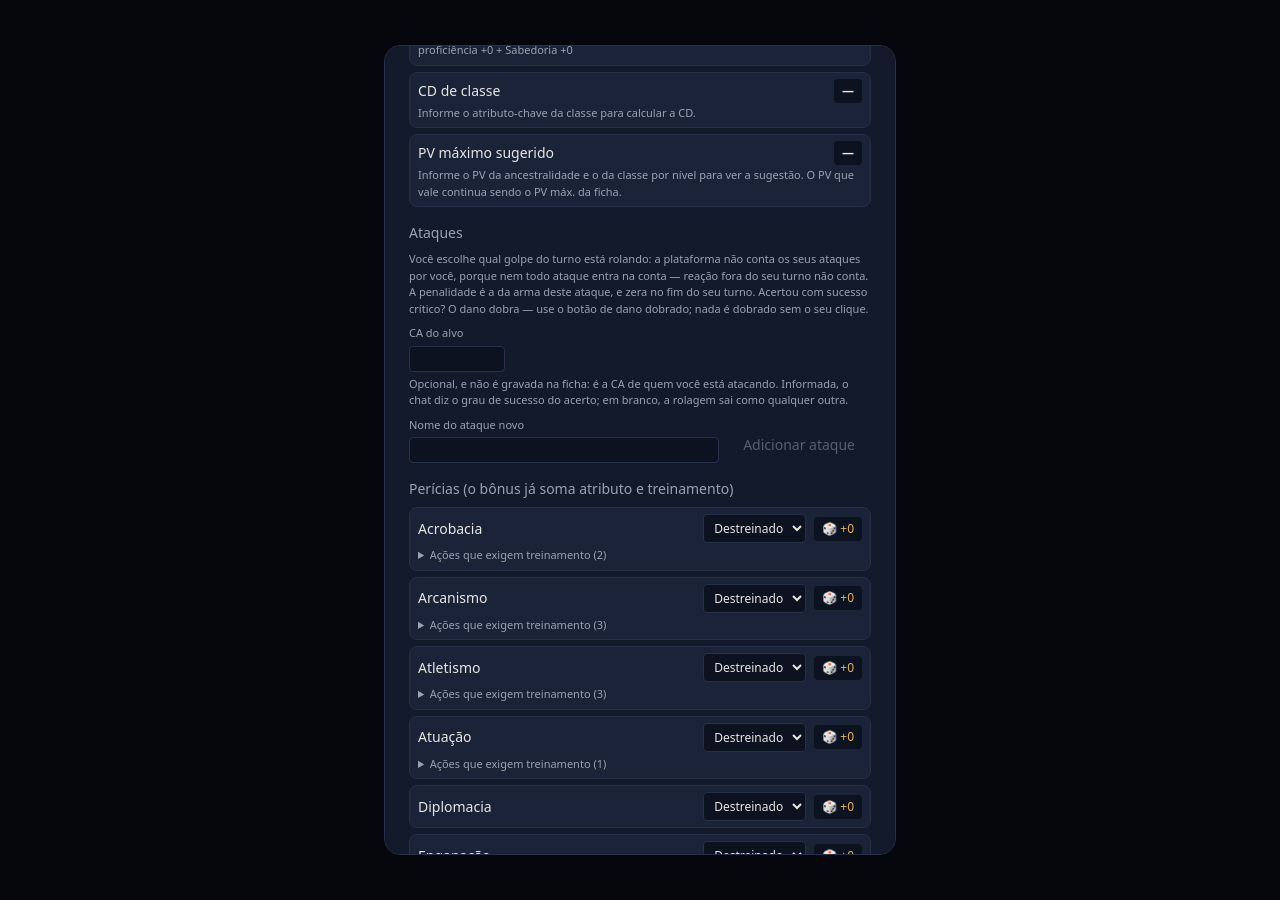
Scenario: criar, editar e remover ataques › o jogador cria um ataque e ele aparece com os três botões desabilitados até ter bônus
(page scrolled)
Type "Machado" into the field labelled "Nome do ataque novo" at (564, 450), box [409,437,719,463]
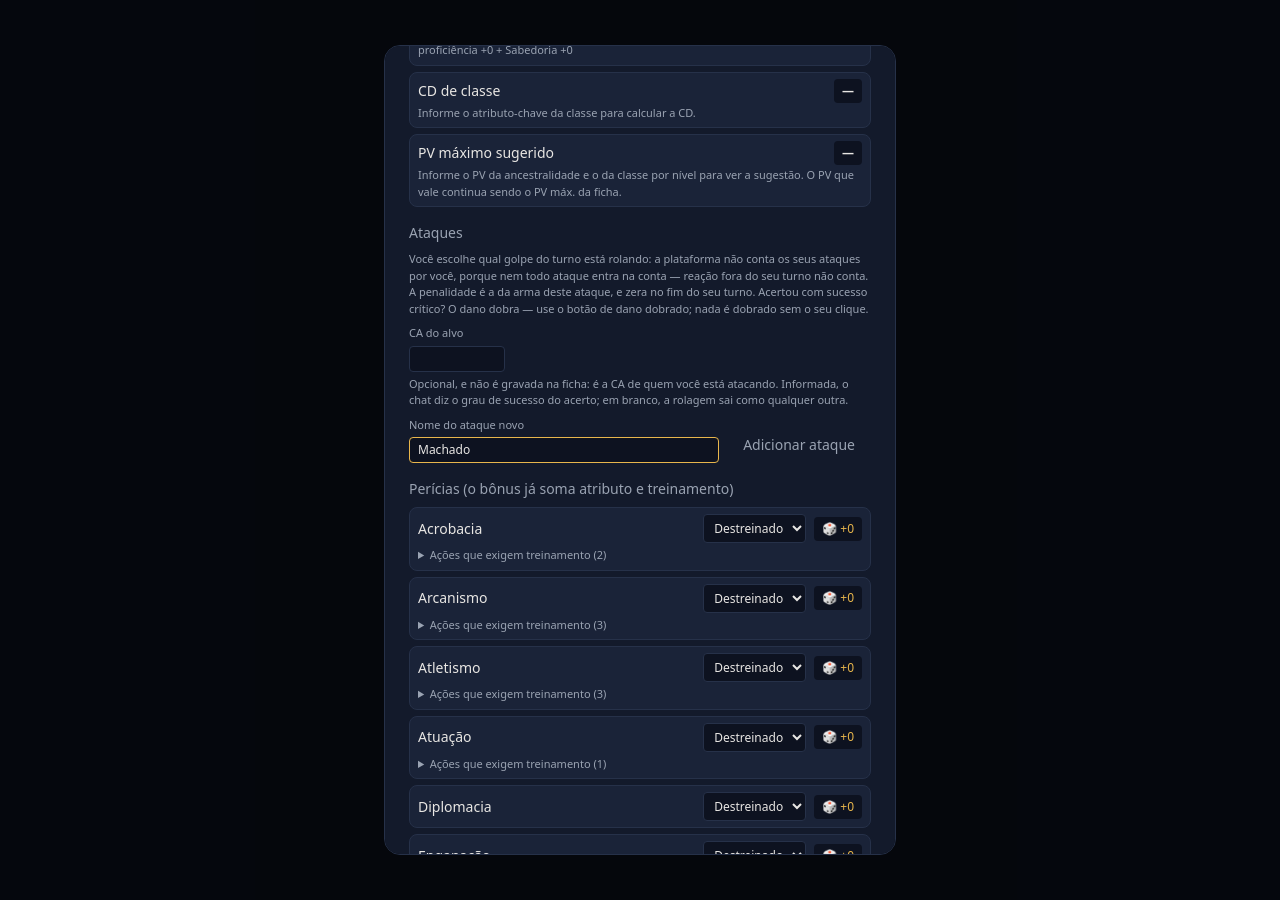
Click the button "Adicionar ataque" at (799, 445), box [727,427,871,463]
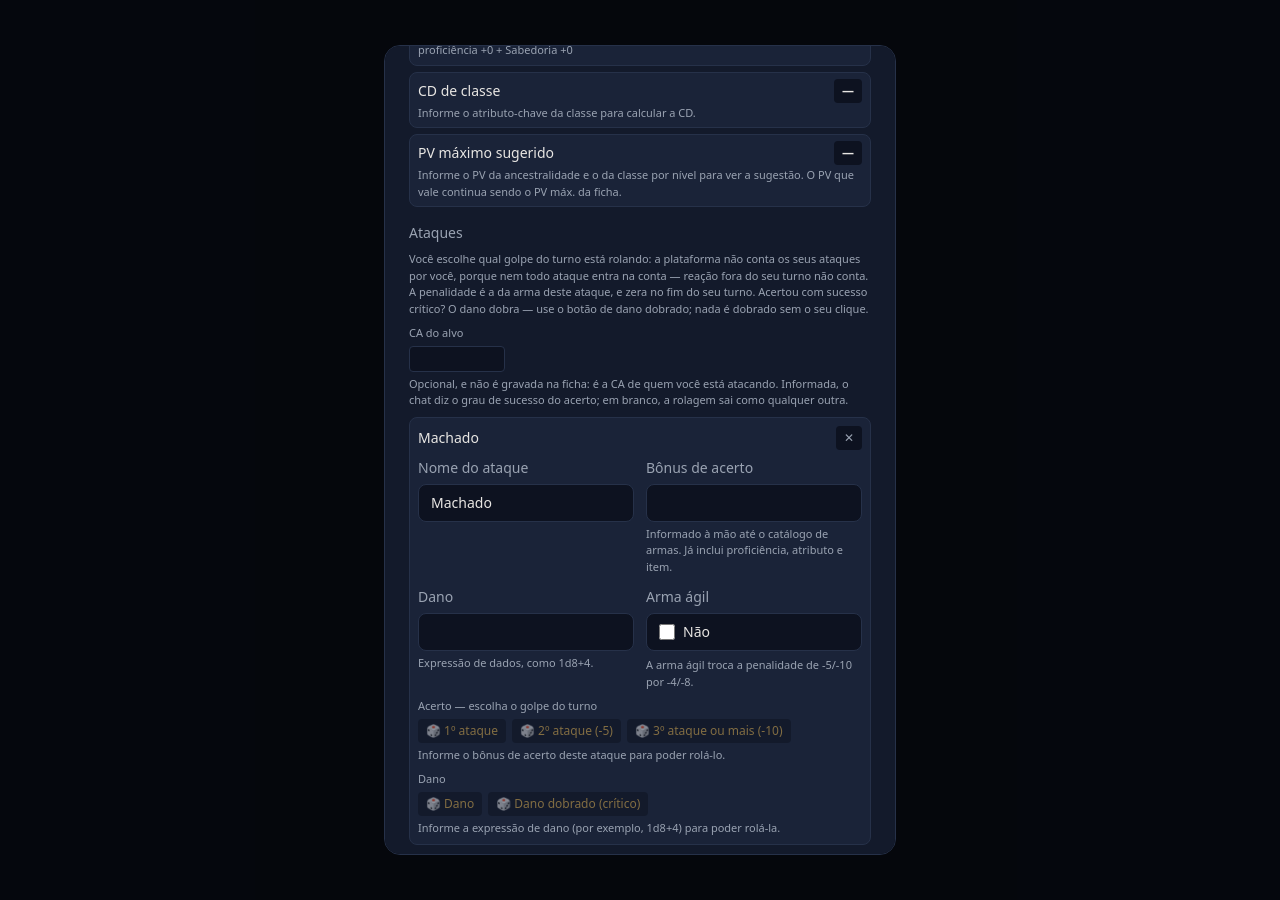
Expected: the list item "Machado" is shown, [418,428,479,446]
Expected: the button with aria-label "Rolar 1º ataque de Machado" is disabled, [418,718,506,742]
# Informar o bônus habilita os três, com a penalidade já aplicada.
Type "7" into the number field labelled "Bônus de acerto" at (754, 502), box [646,484,862,522]
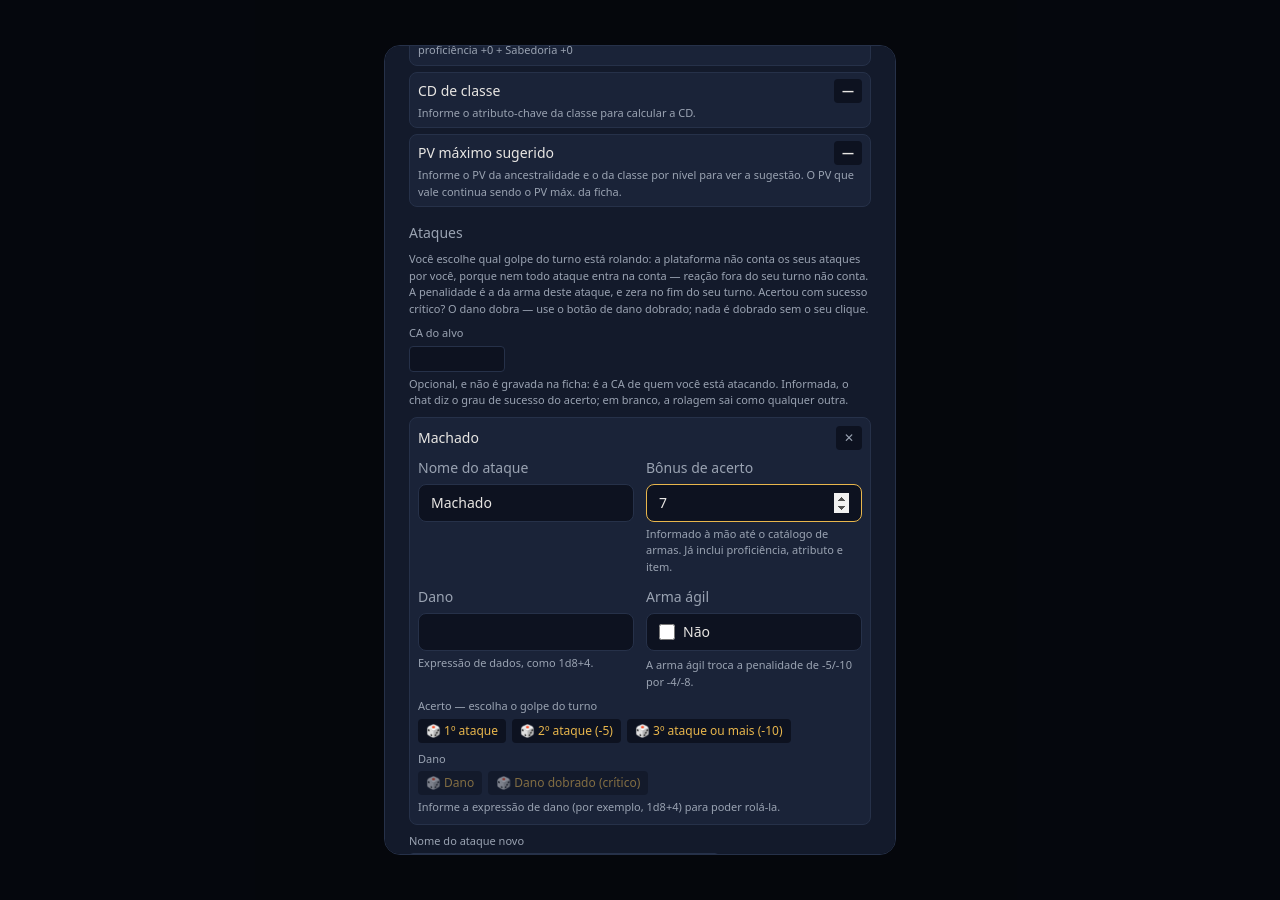
Expected: the list item "Machado" is shown, [418,428,479,446]
Expected: the button with aria-label "Rolar 2º ataque (-5) de Machado (1d20+2)" is enabled, [512,718,621,742]
